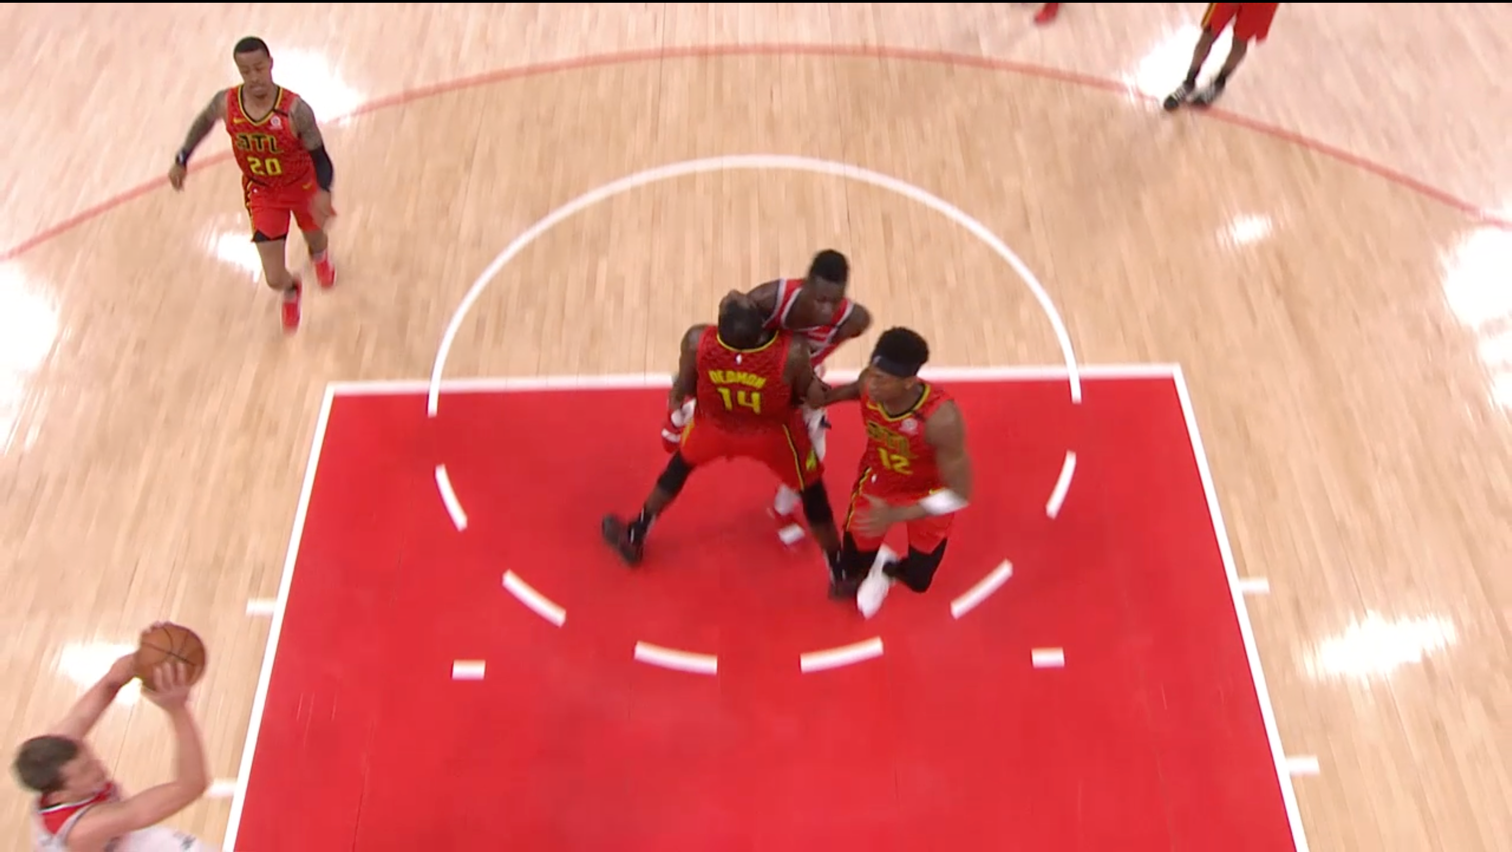Foul: (657, 218, 842, 632)
